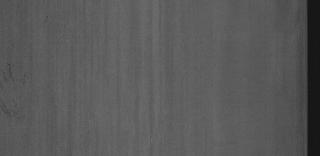water spot: (3, 58, 33, 122)
